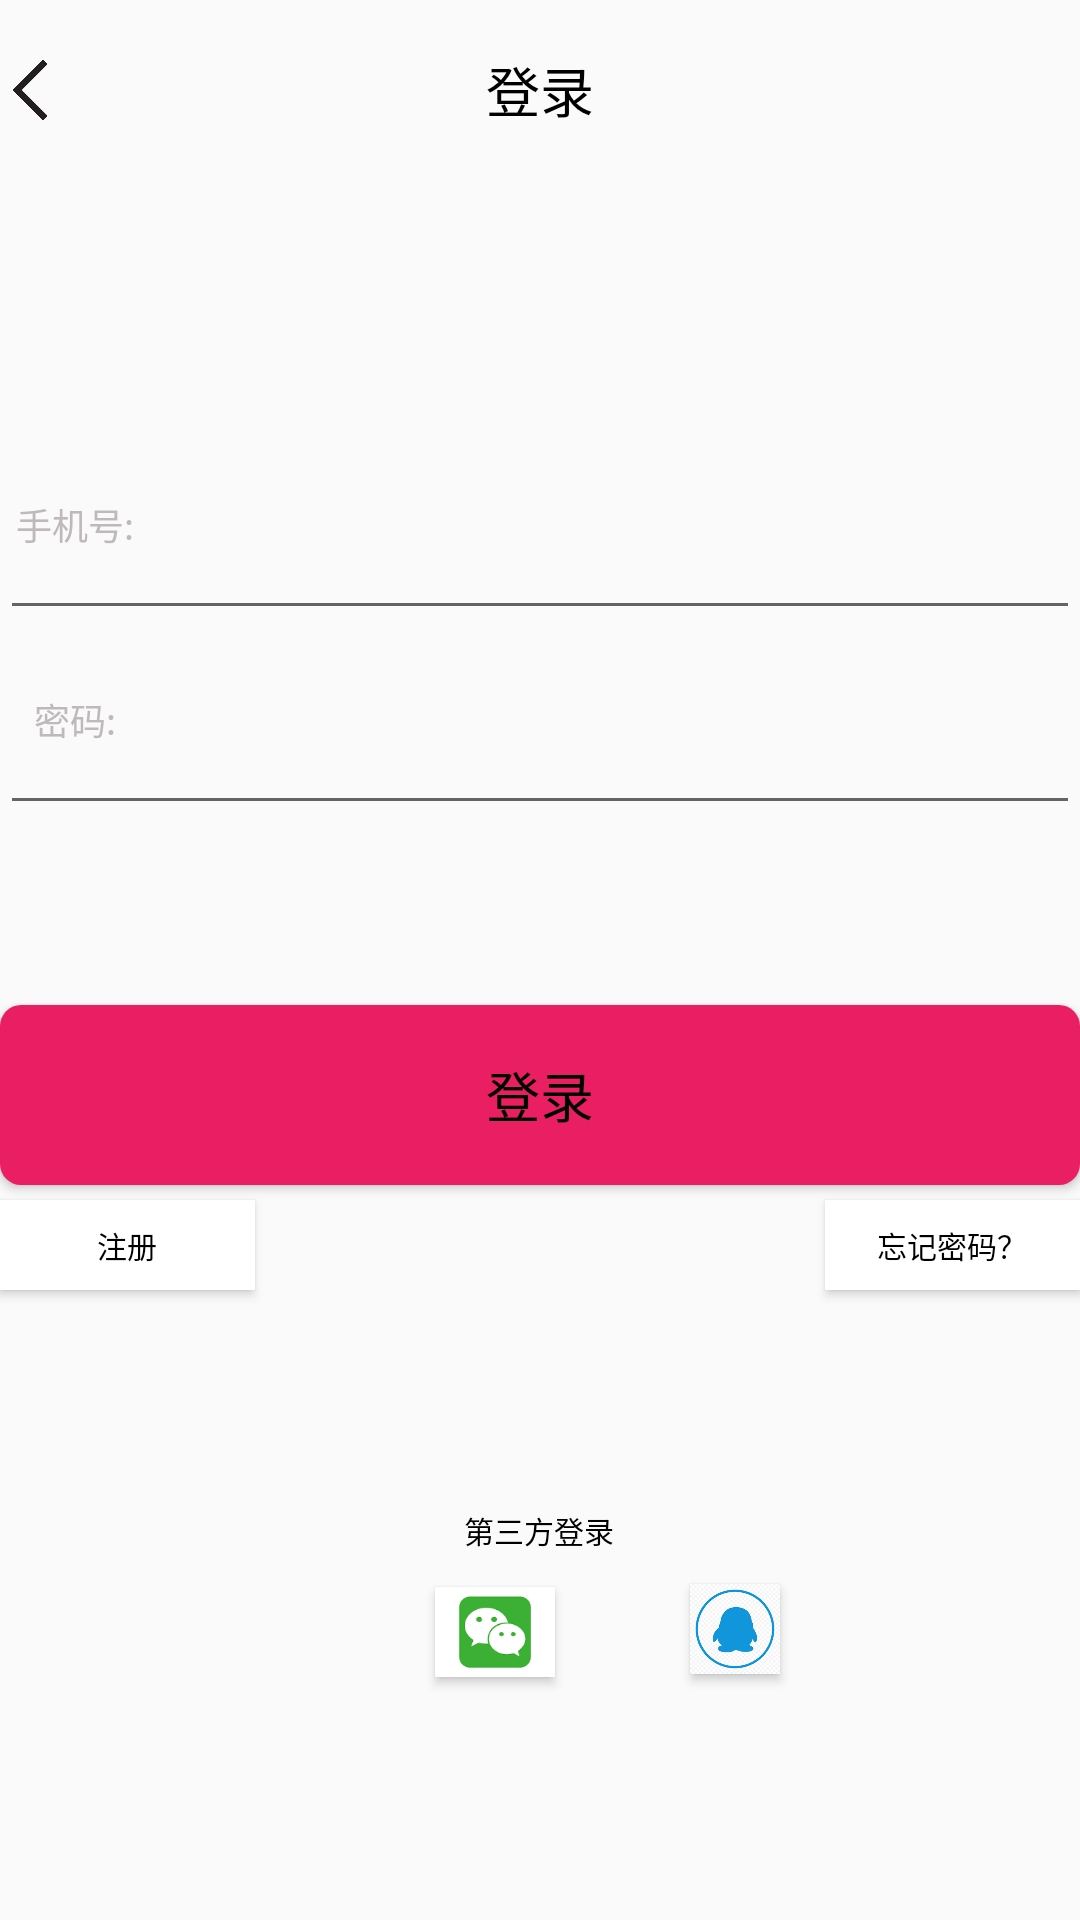

Where to tap for icons on this 1080 × 1920 app screen, as (x,y):
left: (30,90)
